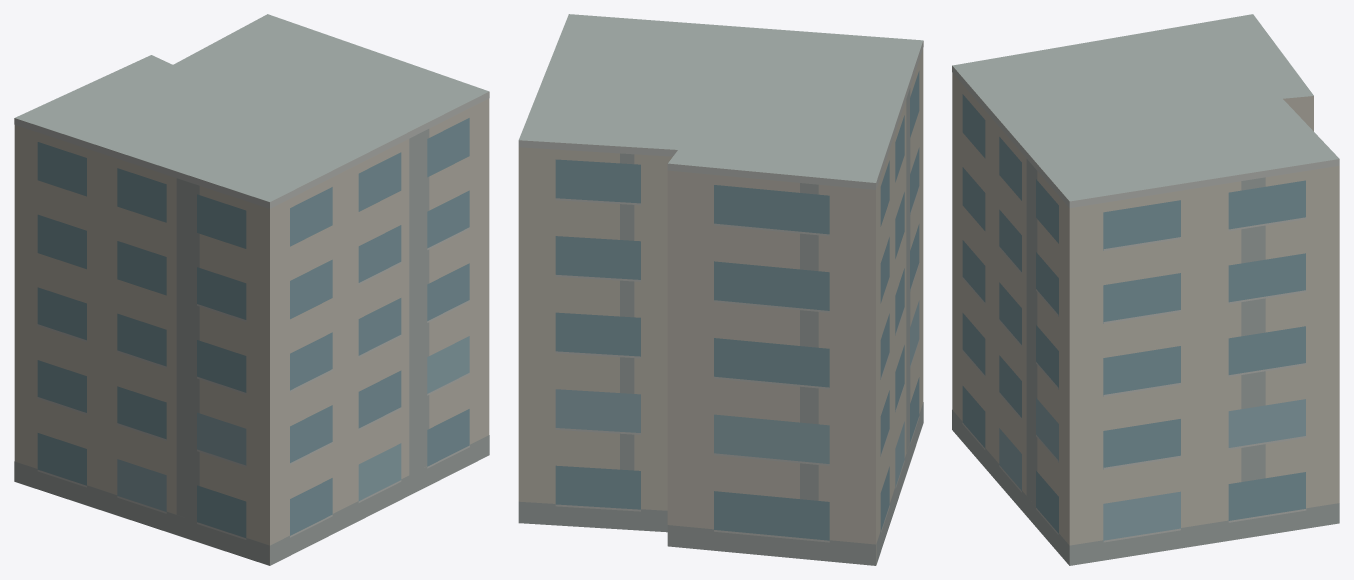
The model's file is survey-upis-32860366.glb.
3 renders of one model, left to right at view 1: azimuth 30°, elevation 25°; view 2: azimuth 150°, elevation 25°; view 3: azimuth 270°, elevation 25°, orthographic. The views are drawn at different scales.
Parts seen in each view (by area): view 1: survey-upis-32860366.tmp; view 2: survey-upis-32860366.tmp; view 3: survey-upis-32860366.tmp.
Part boxes in pixels (left/top/right/bottom): survey-upis-32860366.tmp: left=14, top=14, right=489, bottom=565; survey-upis-32860366.tmp: left=518, top=14, right=923, bottom=565; survey-upis-32860366.tmp: left=952, top=14, right=1339, bottom=565.
Bounding box in the file's own units: 14.63 × 13.25 × 12.78.
